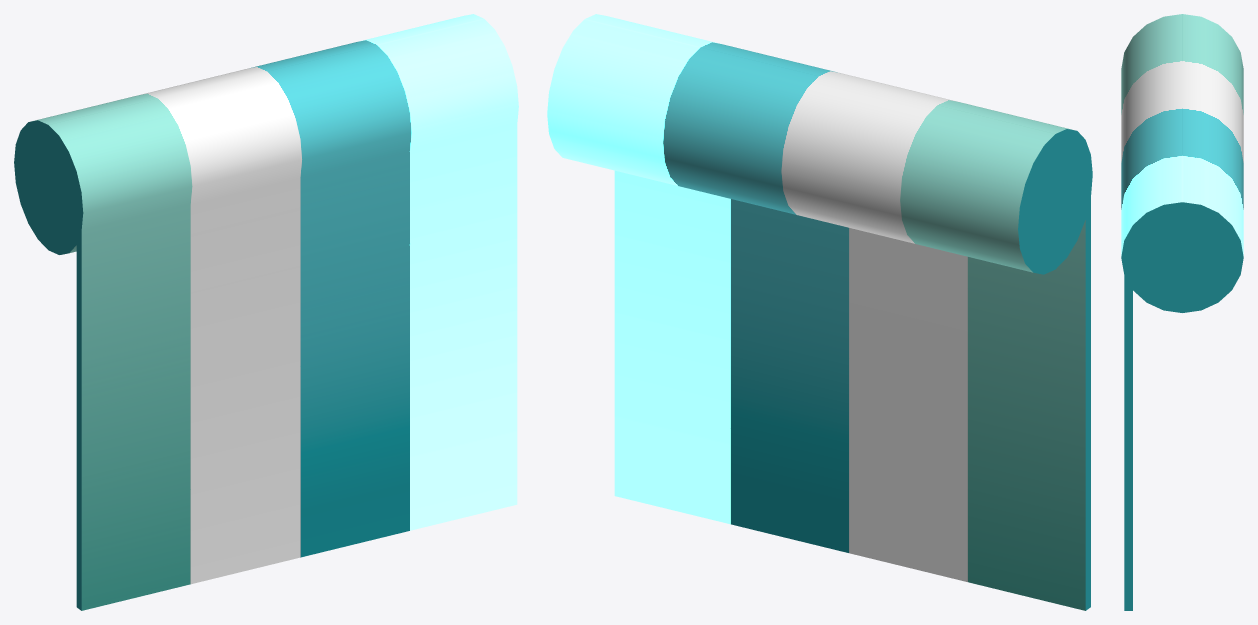
Rendered from ColorSet_04.glb.
3 renders of one model, left to right at view 1: azimuth 30°, elevation 25°; view 2: azimuth 150°, elevation 25°; view 3: azimuth 270°, elevation 25°, orthographic. The views are drawn at different scales.
Parts seen in each view (by area): view 1: ColorSet_04; view 2: ColorSet_04; view 3: ColorSet_04.
Boxes of the visible parts, x1,y1,x2,y2 form: ColorSet_04: [14, 14, 518, 610]; ColorSet_04: [547, 14, 1092, 610]; ColorSet_04: [1121, 14, 1243, 610].
Bounding box in the file's own units: 0.6697 × 0.6784 × 0.1842.
1 material, 1 textured.
